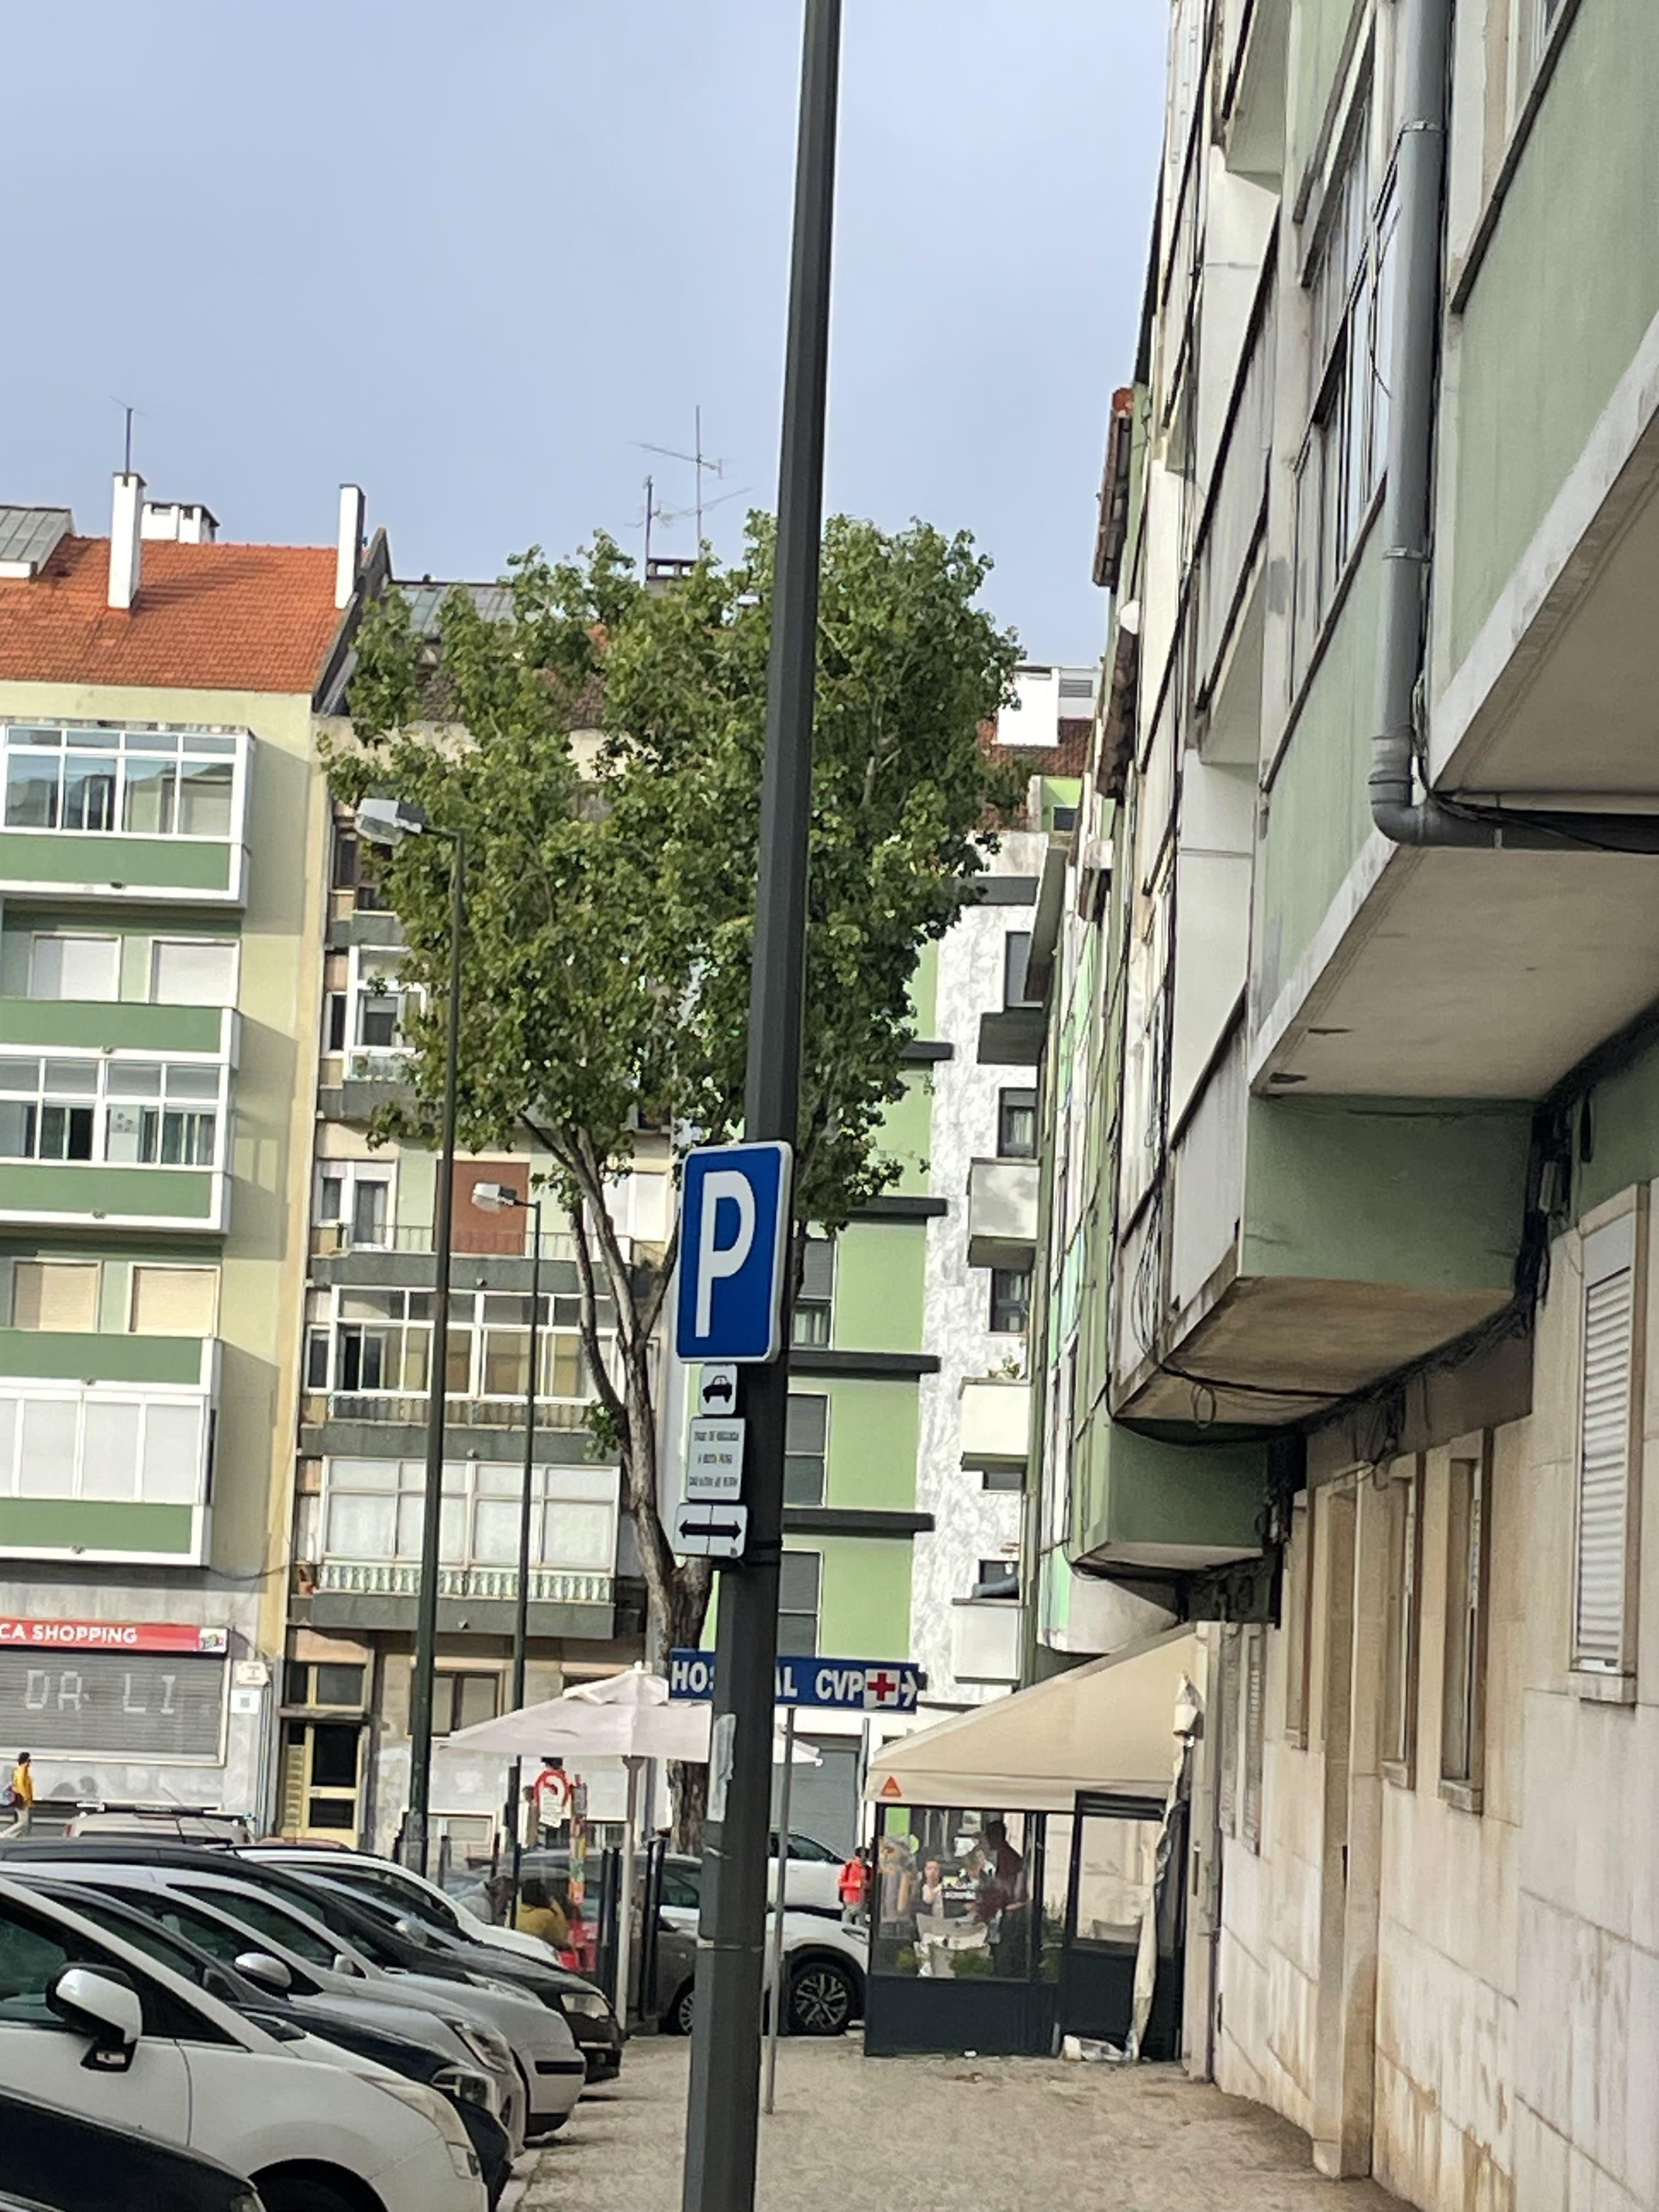Estacionamento autorizado: (673, 1136, 795, 1366)
